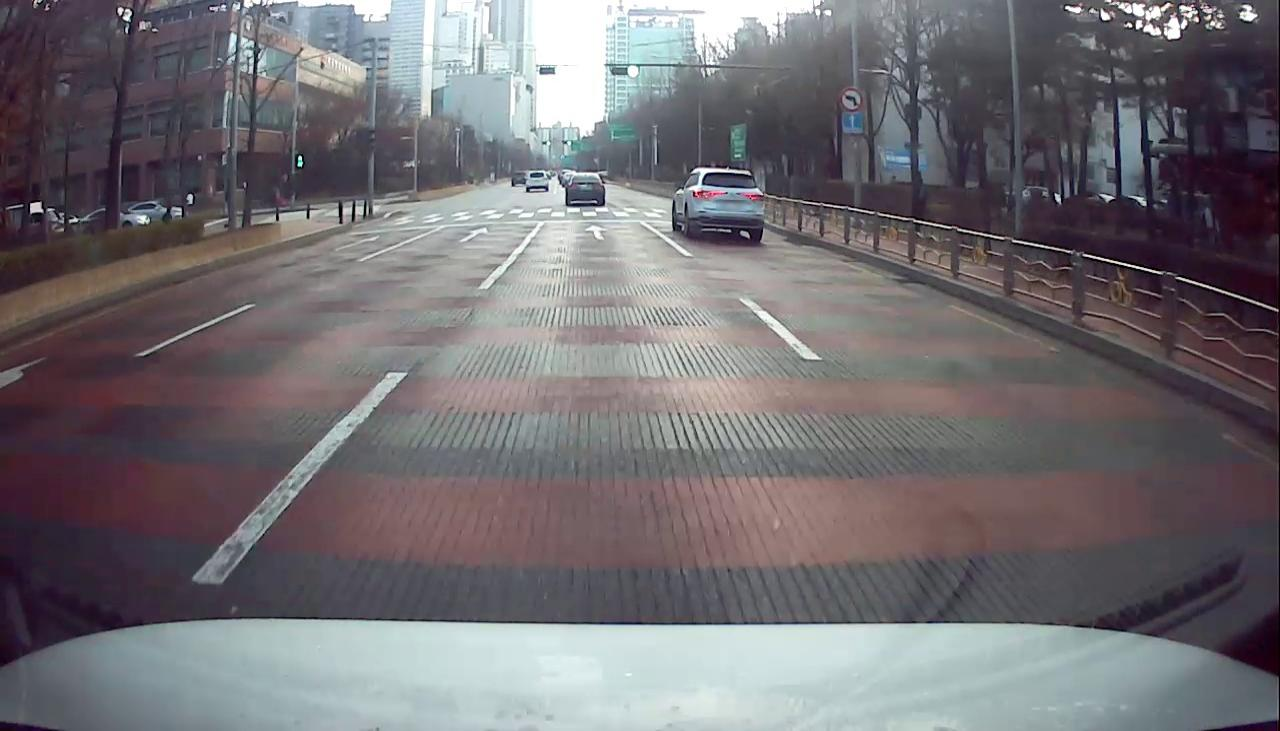Green Light: (626, 66, 639, 78), (554, 65, 567, 76)
